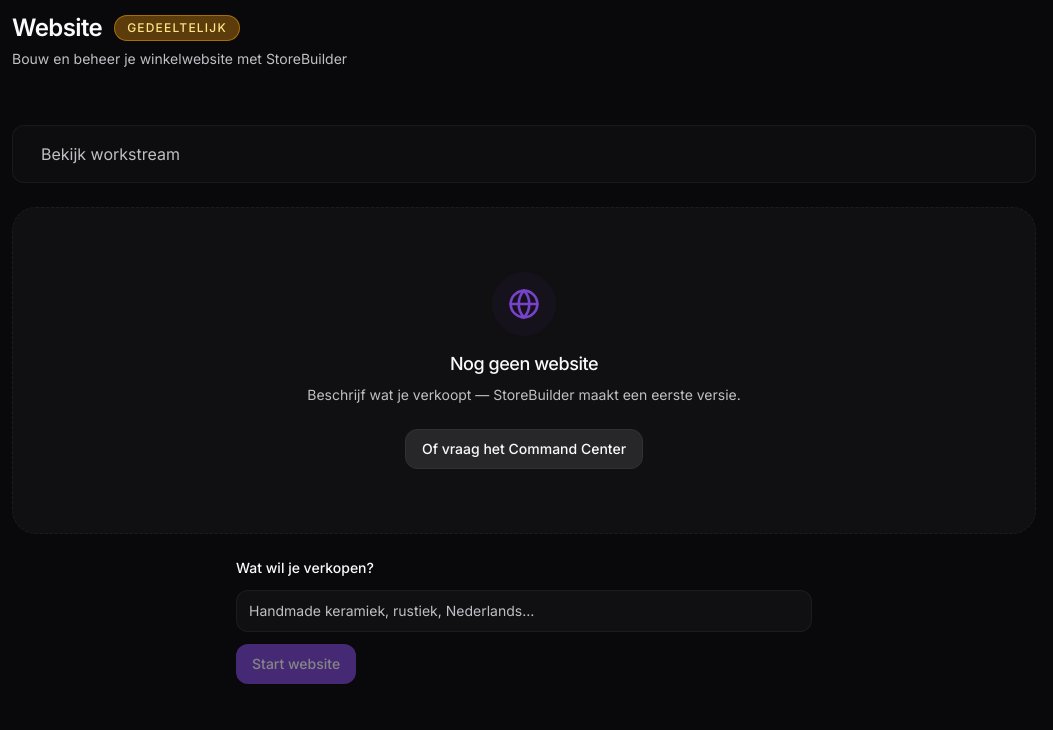
Test: WebsiteHubPage › surfaces API failure on create
Type "Test shop" into the field with test id "website-create-prompt" at (524, 611), box x1=236 y1=590 x2=812 y2=632
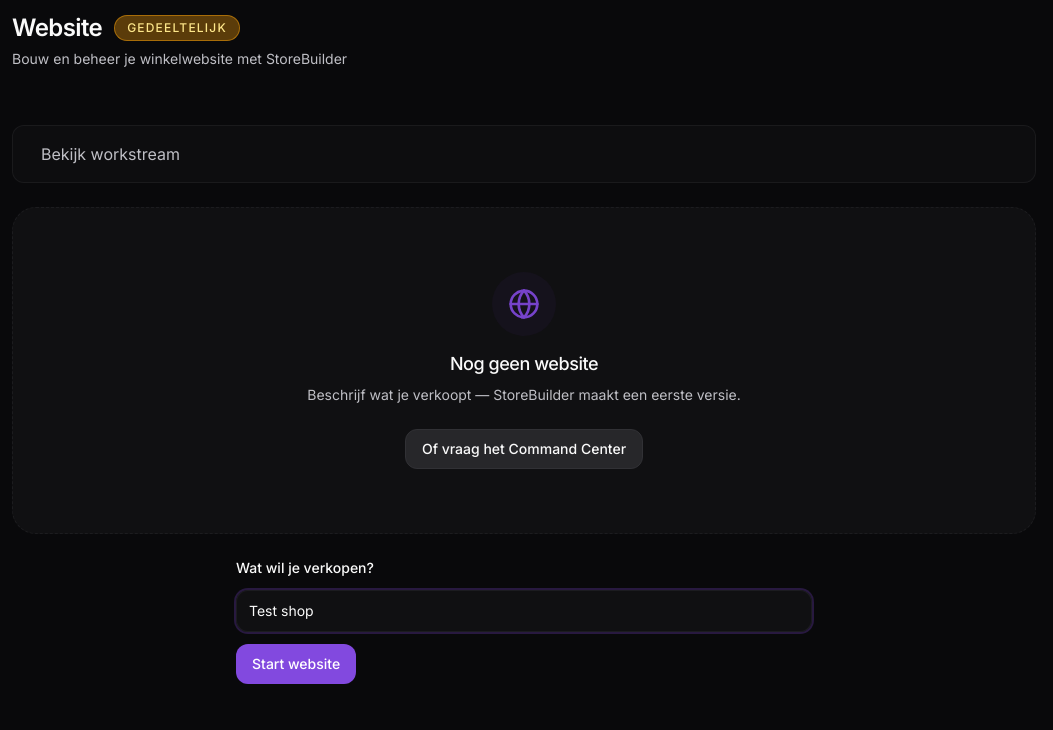
Click the button with test id "website-create-submit" at (296, 664), box x1=236 y1=644 x2=356 y2=684
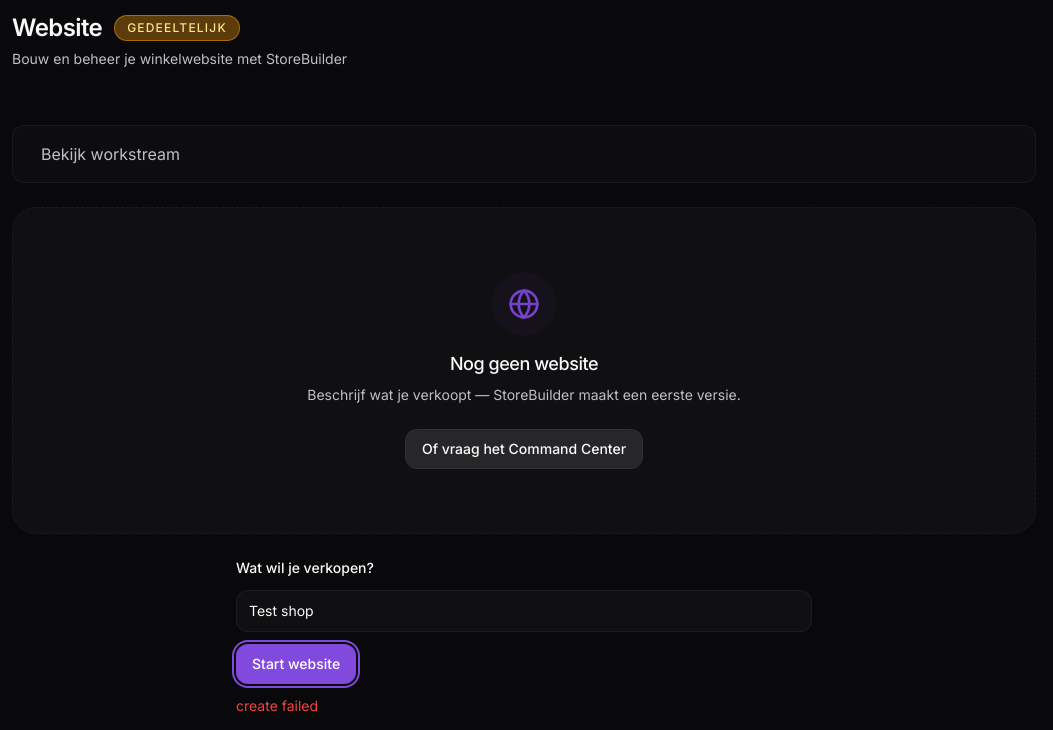
Expected: the message "create failed" is shown, x1=236 y1=697 x2=318 y2=714
